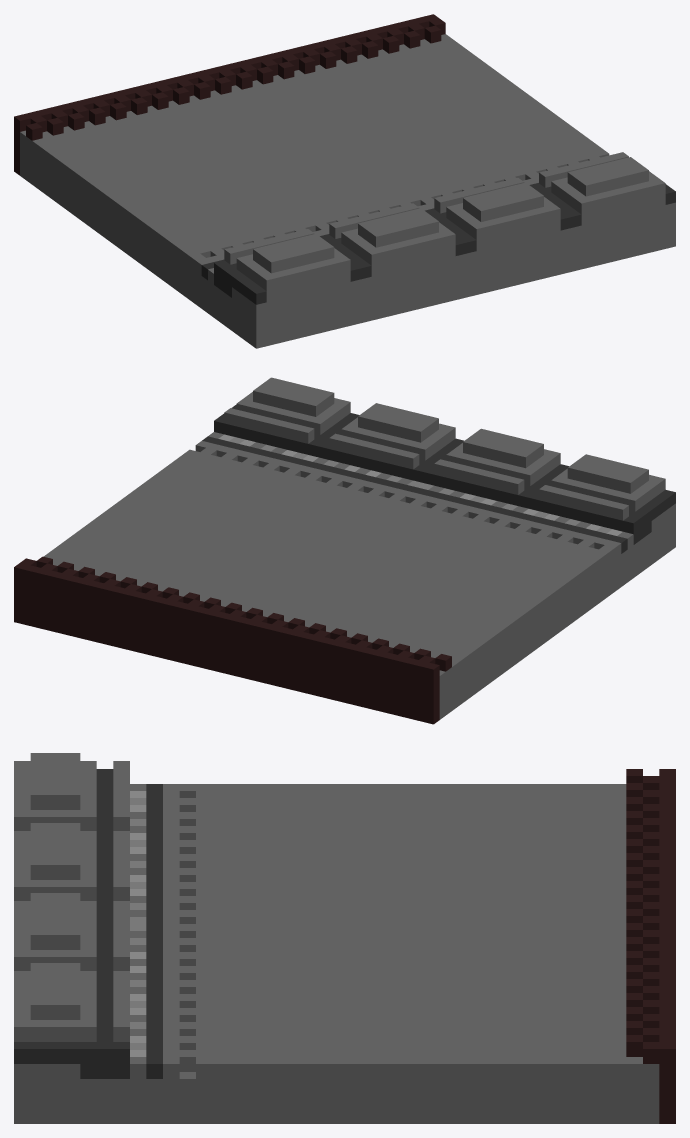
Rendered from ylica goroda-0.obj.
3 views of the same model, one above another, from view 1: azimuth 30°, elevation 25°; view 2: azimuth 150°, elevation 25°; view 3: azimuth 270°, elevation 25° (orthographic). The views are drawn at different scales.
Bounding box in the file's own units: 4 × 0.7 × 4.
Materials: 1 (1 with a texture image).
